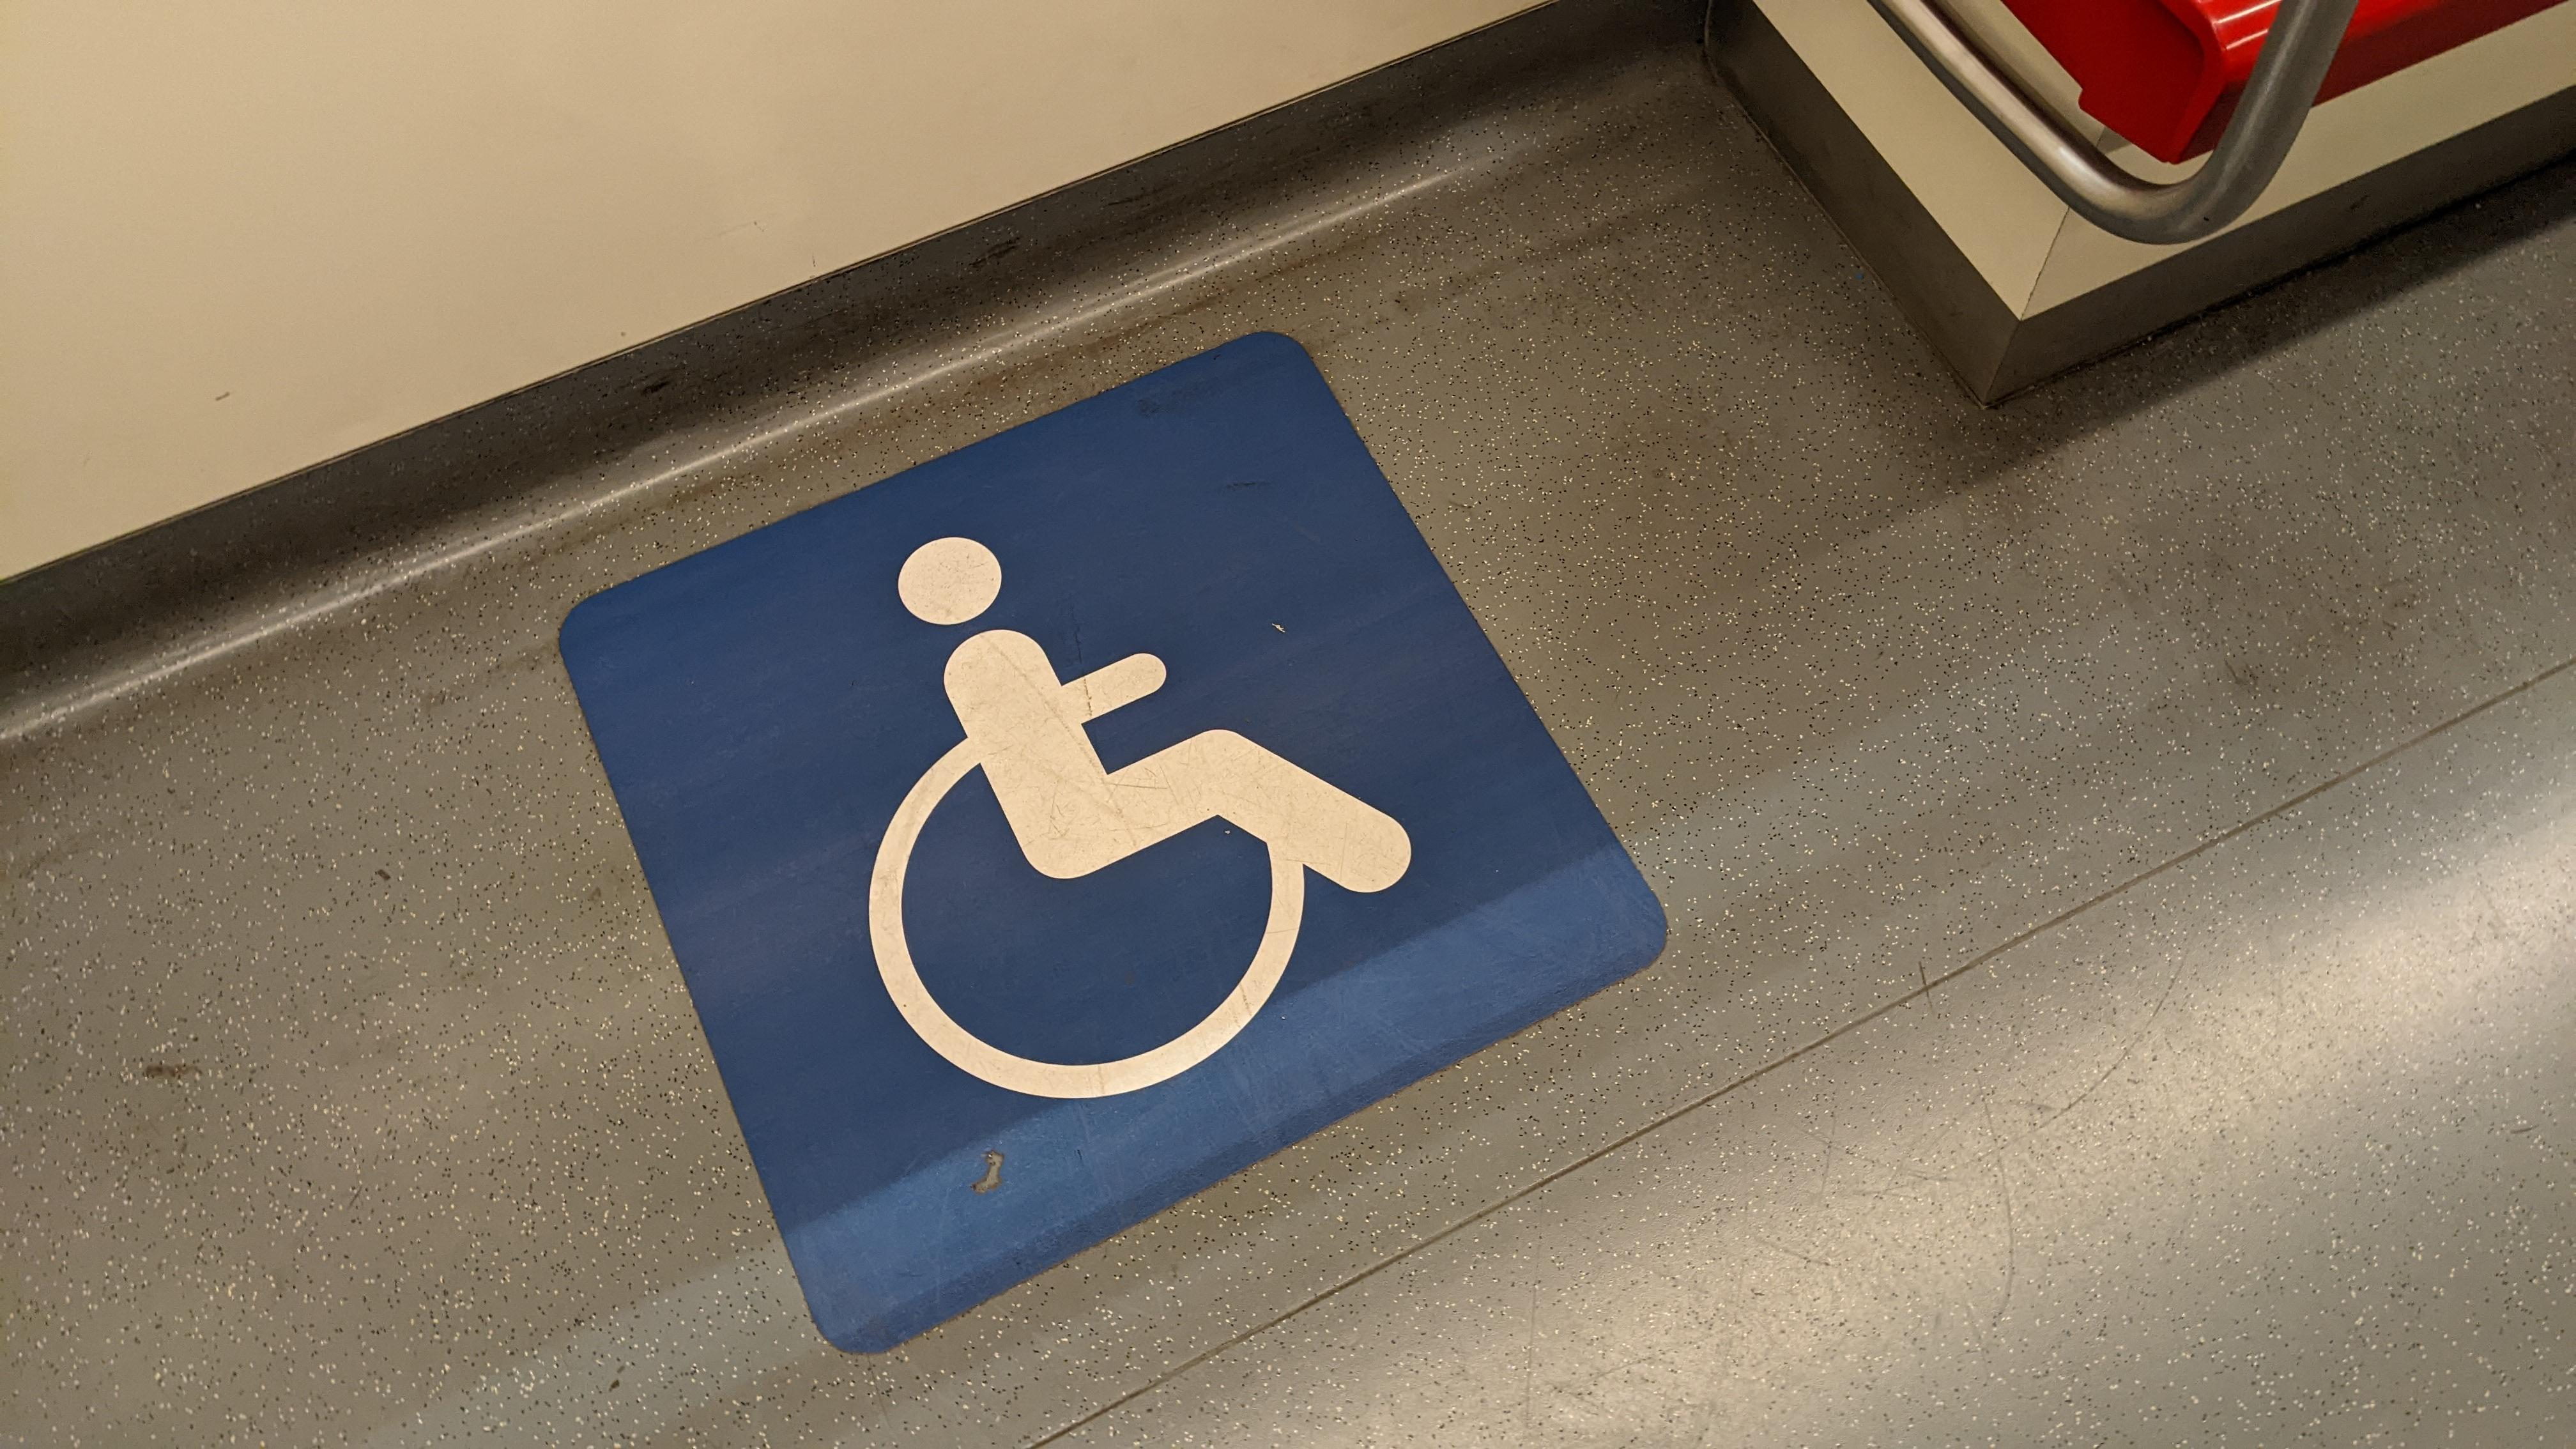handicapped symbol: (860, 529, 1422, 1109)
